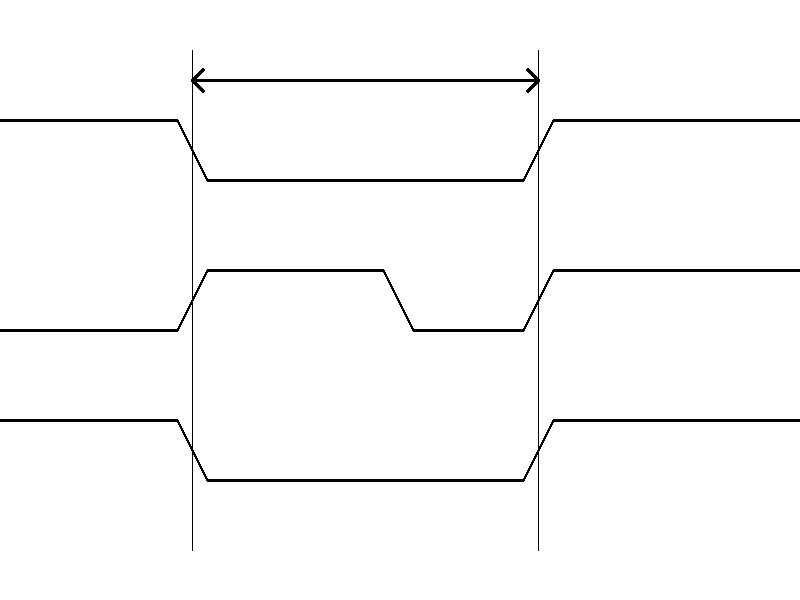double_arrow: (192, 65, 538, 95)
